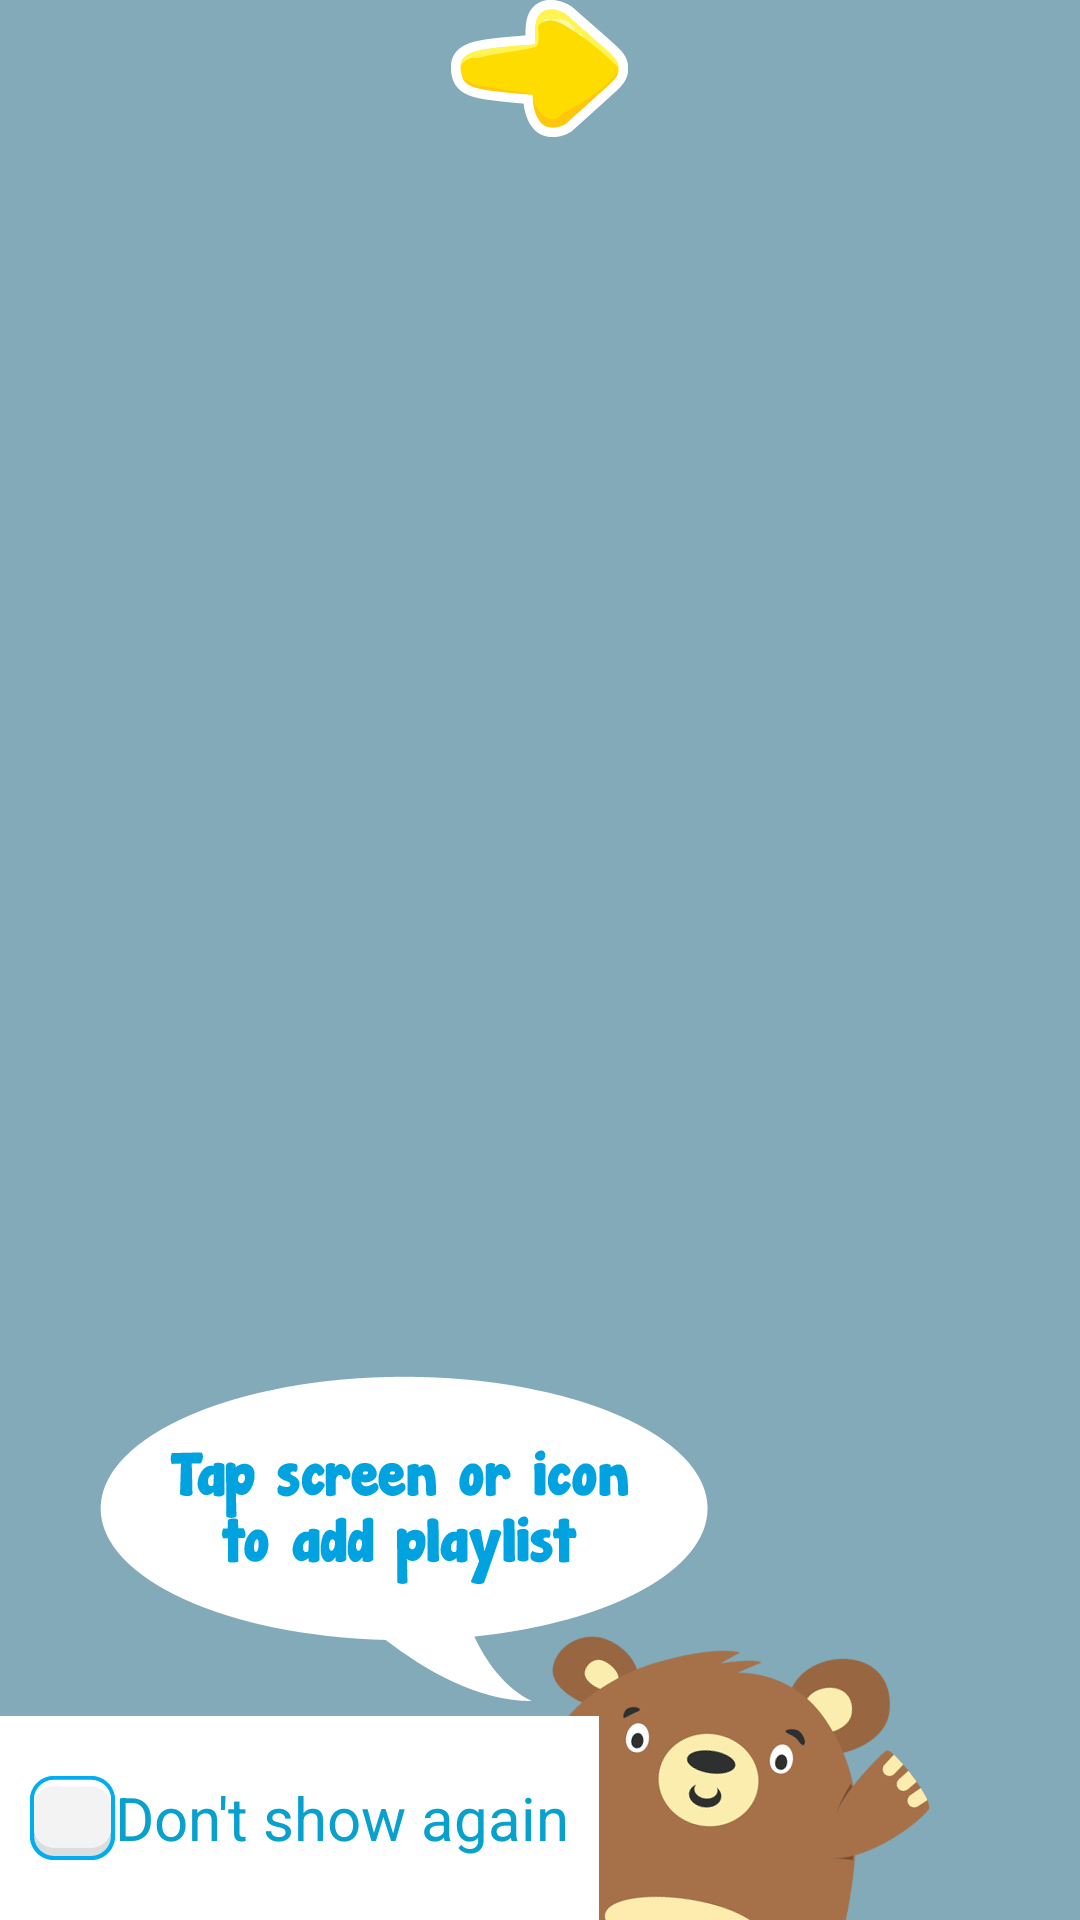

Screen size 1080 × 1920. Icon name, then its center in pixels as [x,y]:
arrow: [539,68]
